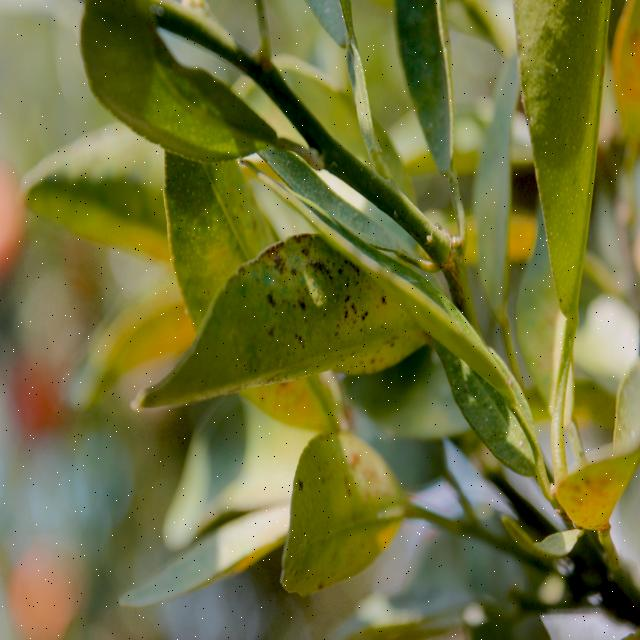melanose: (153, 240, 410, 407), (277, 435, 406, 598)
